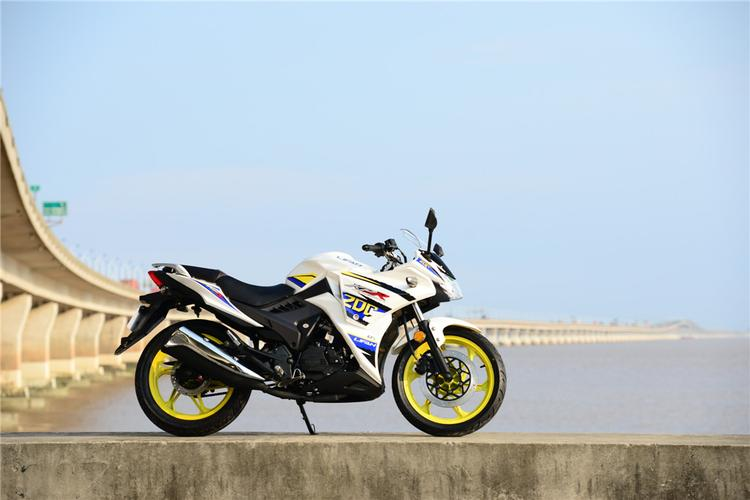摩托车: (109, 202, 513, 438)
